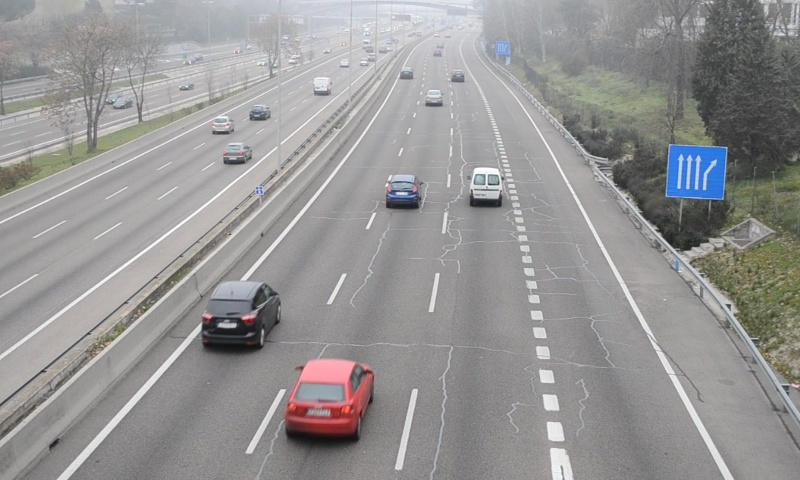car: (285, 360, 374, 437), (202, 282, 280, 347), (385, 174, 422, 206), (424, 88, 443, 106), (449, 68, 464, 83)
van: (470, 167, 502, 206)
